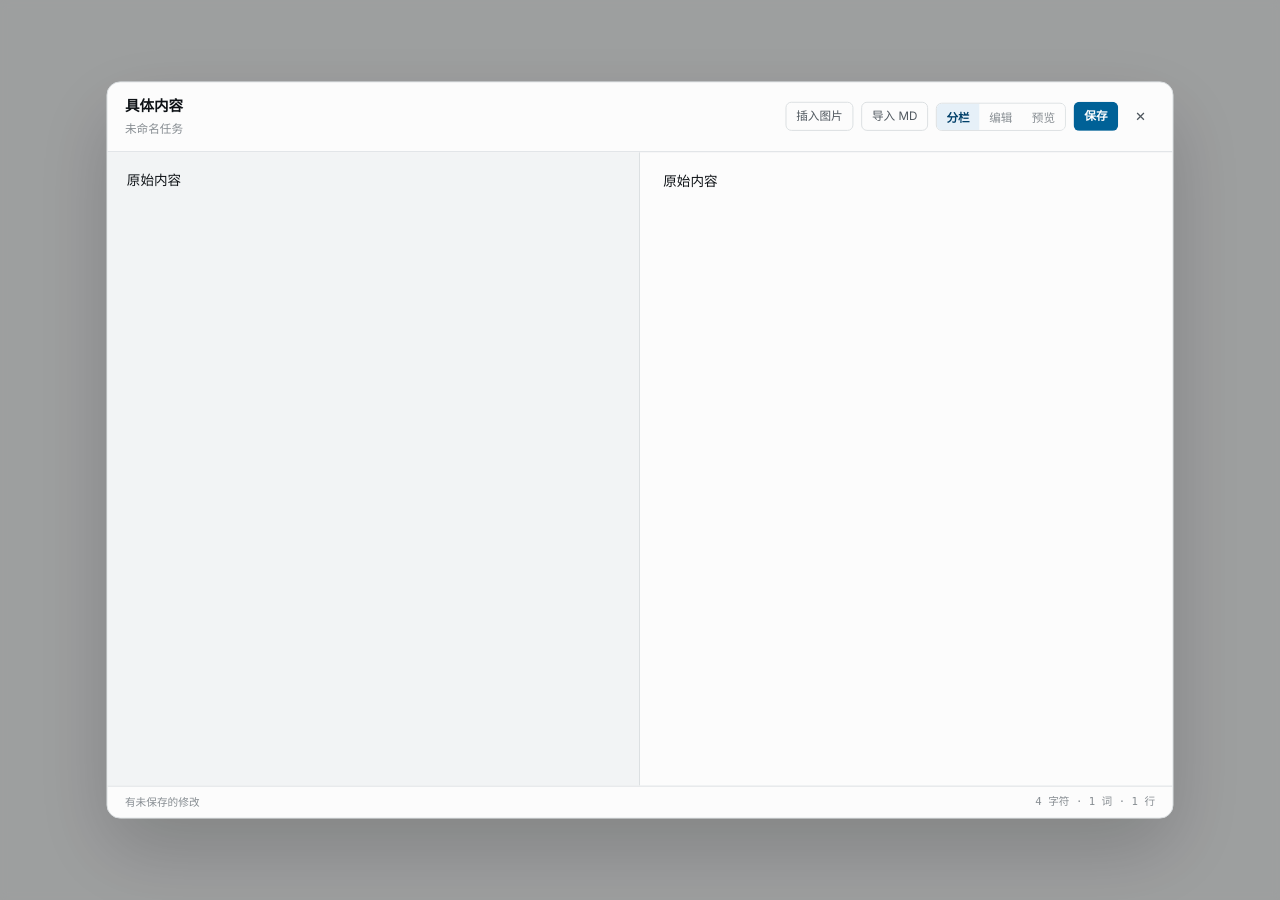
Test: ContentModal save failures › keeps the draft when the parent returns a recoverable save error
Step 1. Replace the text in the text box with class "md-editor" with "需要保留的导入内容" → [374, 468], box [108,152,640,785]
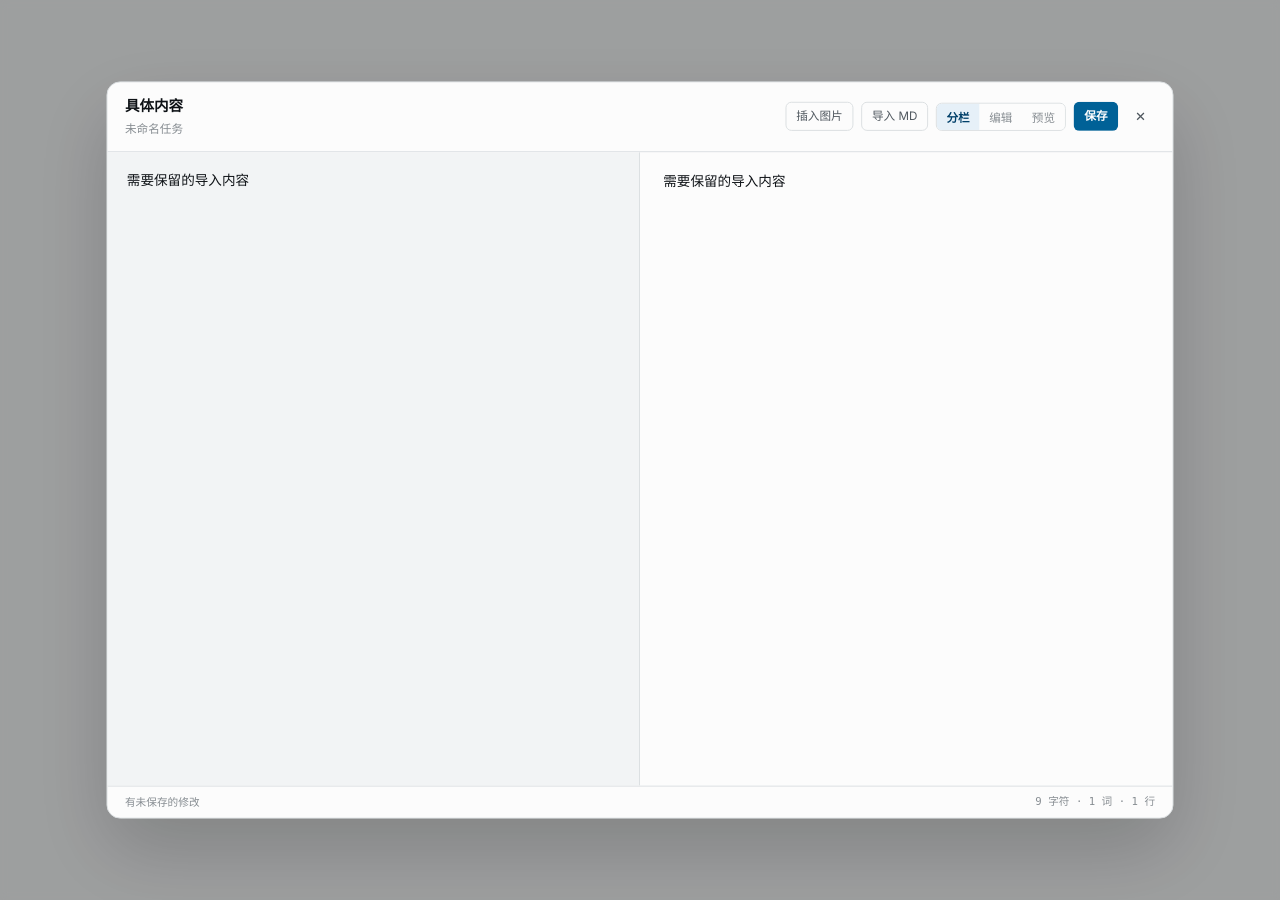
Step 2. Click the button "保存" → [1096, 117], box [1074,102,1118,131]
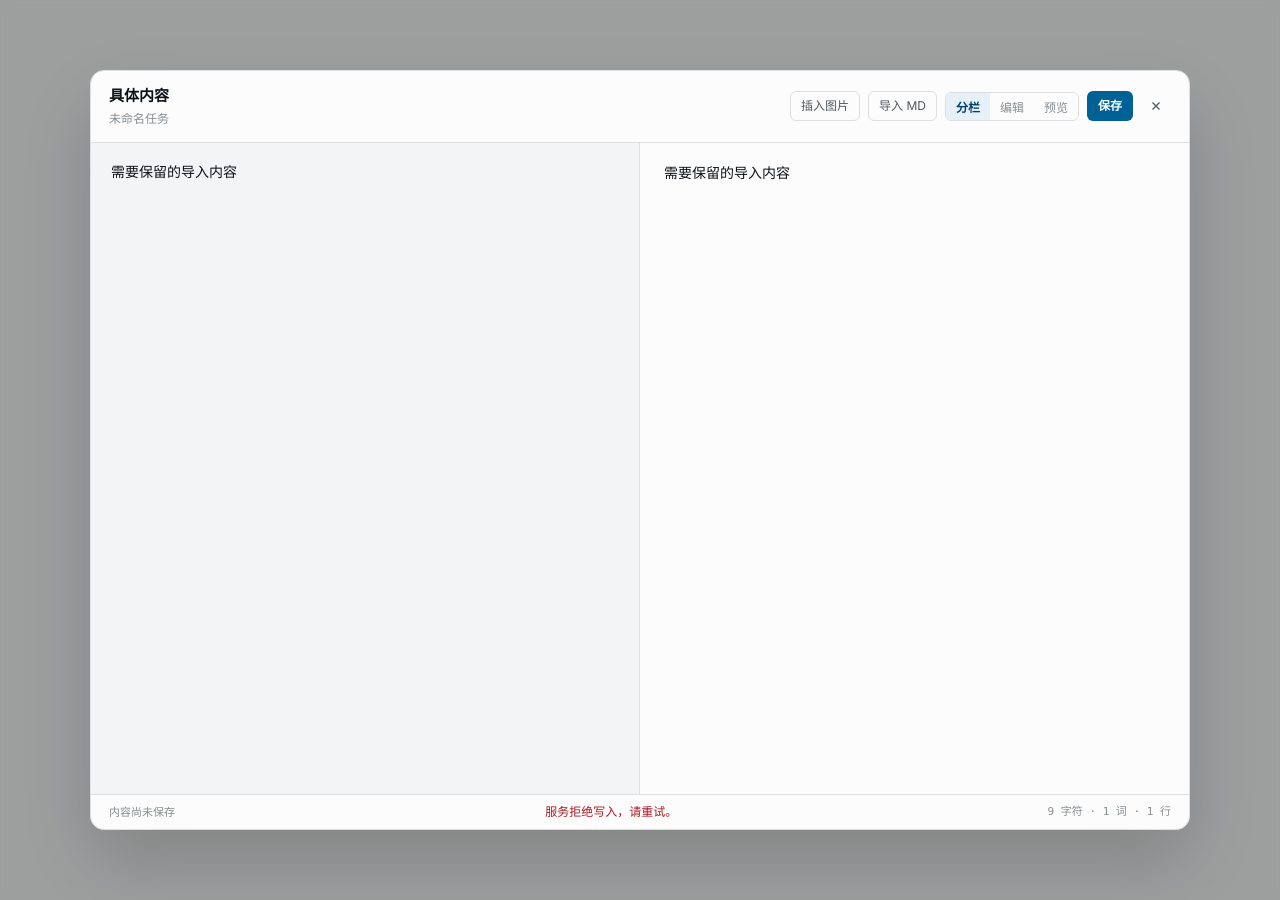
Check: the message with class "save-error" shows "服务拒绝写入", box [545,804,677,819]
